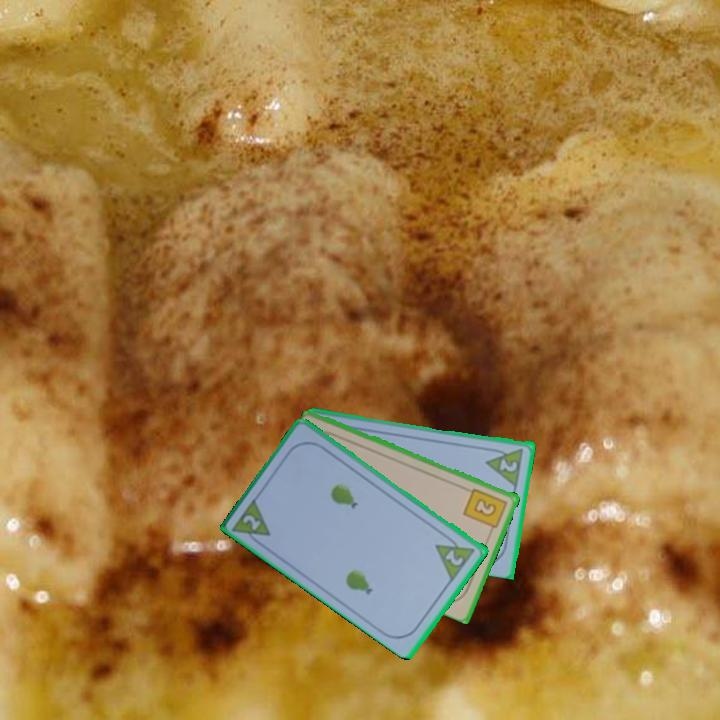2b: (460, 484, 510, 536)
2p: (432, 530, 479, 583), (483, 444, 526, 488), (239, 511, 264, 533)
